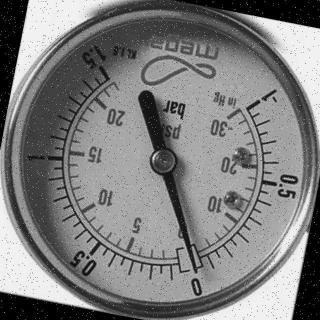gauge: (0, 0, 320, 320), (212, 72, 282, 124), (79, 44, 140, 97), (146, 145, 180, 178), (184, 258, 204, 280)
